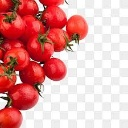tomato: (6, 81, 39, 111), (17, 15, 47, 38), (20, 59, 47, 84), (1, 13, 25, 40), (46, 29, 75, 51), (30, 36, 53, 61), (2, 50, 31, 69), (43, 59, 68, 81), (44, 6, 66, 29), (68, 14, 86, 40), (4, 105, 23, 128), (1, 67, 16, 90)
